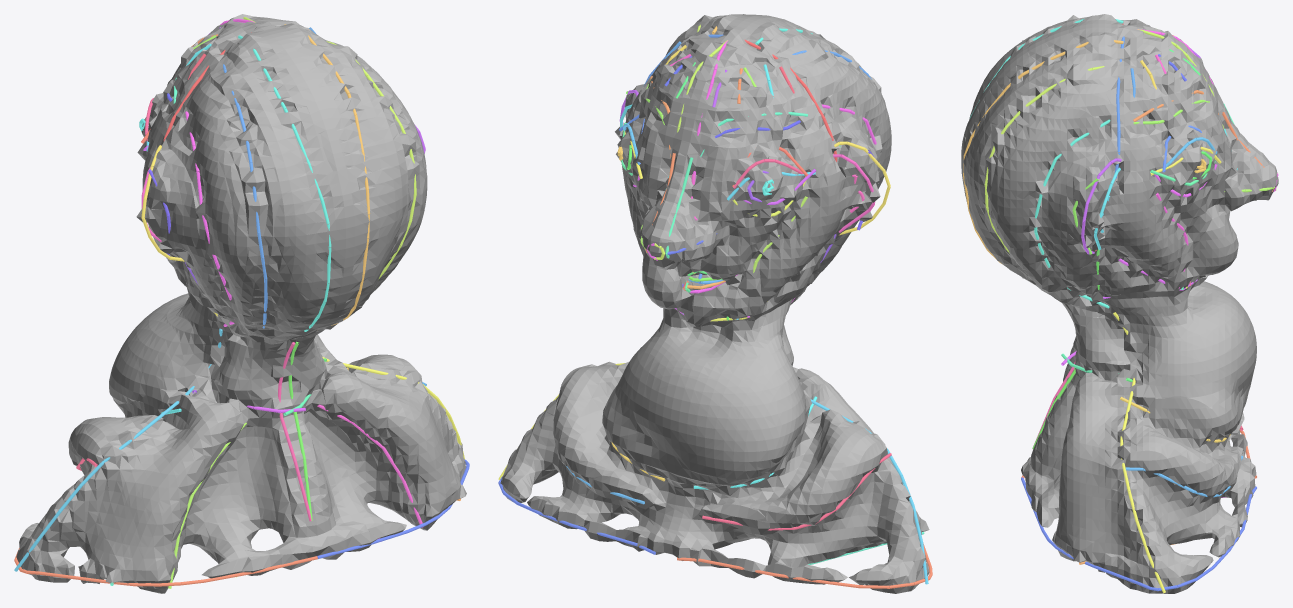
Rendered from author1_bust.gltf.
The picture shows the model from 3 angles, left to right: view 1: azimuth 30°, elevation 25°; view 2: azimuth 150°, elevation 25°; view 3: azimuth 270°, elevation 25°; orthographic projection. The views are drawn at different scales.
Bounding box in the file's own units: 0.6246 × 0.6855 × 0.415.
